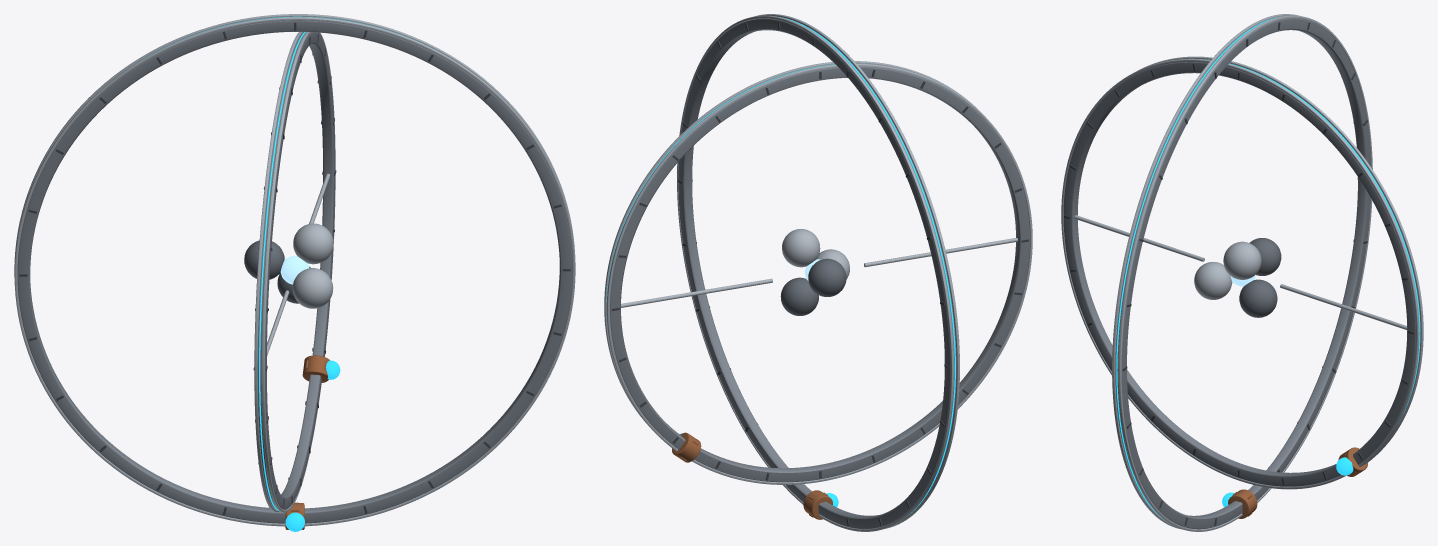
Rendered from atom_02_binary.glb.
3 views of the same model, side by side, from view 1: azimuth 30°, elevation 25°; view 2: azimuth 150°, elevation 25°; view 3: azimuth 270°, elevation 25° (orthographic). The views are drawn at different scales.
Parts seen in each view (by area): view 1: orbit_1_ring, orbit_2_ring, orbit_1_lips, orbit_2_lips, nucleus_protons, nucleus_neutrons, orbit_2_channel_light; view 2: orbit_2_ring, orbit_1_ring, orbit_1_lips, orbit_2_lips, nucleus_neutrons, nucleus_protons, hub_spokes, orbit_1_channel_light, orbit_2_segments, electron_housing; view 3: orbit_2_ring, orbit_1_ring, orbit_1_lips, orbit_2_lips, nucleus_protons, nucleus_neutrons, hub_spokes, orbit_1_channel_light, orbit_2_channel_light, electron_housing, orbit_2_segments.
Part boxes in pixels (bbox=[...]): orbit_1_ring: bbox=[17, 20, 572, 523]; orbit_2_ring: bbox=[257, 32, 335, 509]; orbit_1_lips: bbox=[14, 14, 575, 526]; orbit_2_lips: bbox=[254, 32, 335, 512]; nucleus_protons: bbox=[292, 223, 333, 308]; nucleus_neutrons: bbox=[244, 240, 310, 303]; orbit_2_channel_light: bbox=[259, 32, 305, 510]; orbit_2_ring: bbox=[610, 67, 1029, 482]; orbit_1_ring: bbox=[678, 18, 956, 529]; orbit_1_lips: bbox=[677, 14, 959, 531]; orbit_2_lips: bbox=[604, 61, 1032, 484]; nucleus_neutrons: bbox=[780, 258, 846, 315]; nucleus_protons: bbox=[782, 229, 849, 279]; hub_spokes: bbox=[621, 238, 1017, 307]; orbit_1_channel_light: bbox=[780, 17, 955, 516]; orbit_2_segments: bbox=[612, 69, 1028, 480]; electron_housing: bbox=[672, 432, 701, 462]; orbit_2_ring: bbox=[1063, 62, 1420, 486]; orbit_1_ring: bbox=[1115, 18, 1371, 529]; orbit_1_lips: bbox=[1112, 14, 1372, 531]; orbit_2_lips: bbox=[1061, 56, 1423, 489]; nucleus_protons: bbox=[1194, 241, 1261, 299]; nucleus_neutrons: bbox=[1239, 238, 1281, 317]; hub_spokes: bbox=[1074, 215, 1406, 329]; orbit_1_channel_light: bbox=[1116, 17, 1276, 519]; orbit_2_channel_light: bbox=[1201, 59, 1420, 423]; electron_housing: bbox=[1228, 489, 1257, 518]; orbit_2_segments: bbox=[1063, 64, 1414, 485].
Size of the model in its own units: 1.83 by 2.08 by 1.42.
